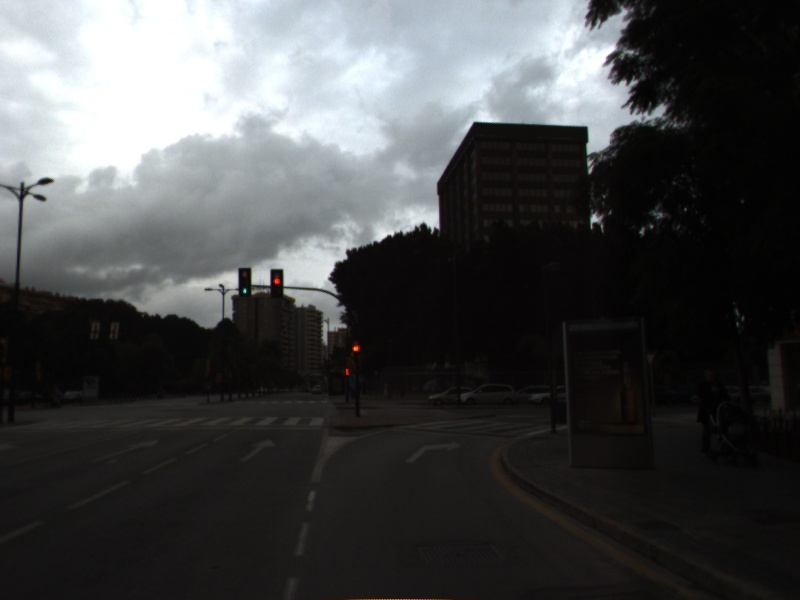RIGHT: (402, 438, 465, 466)
STRAIGHT: (88, 437, 161, 465), (238, 436, 279, 464)
